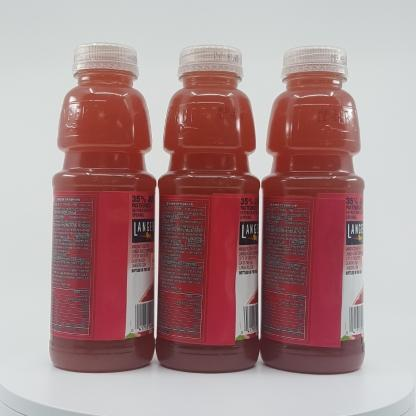-----449ML: (49, 42, 156, 373), (259, 45, 365, 375), (155, 45, 260, 373)
